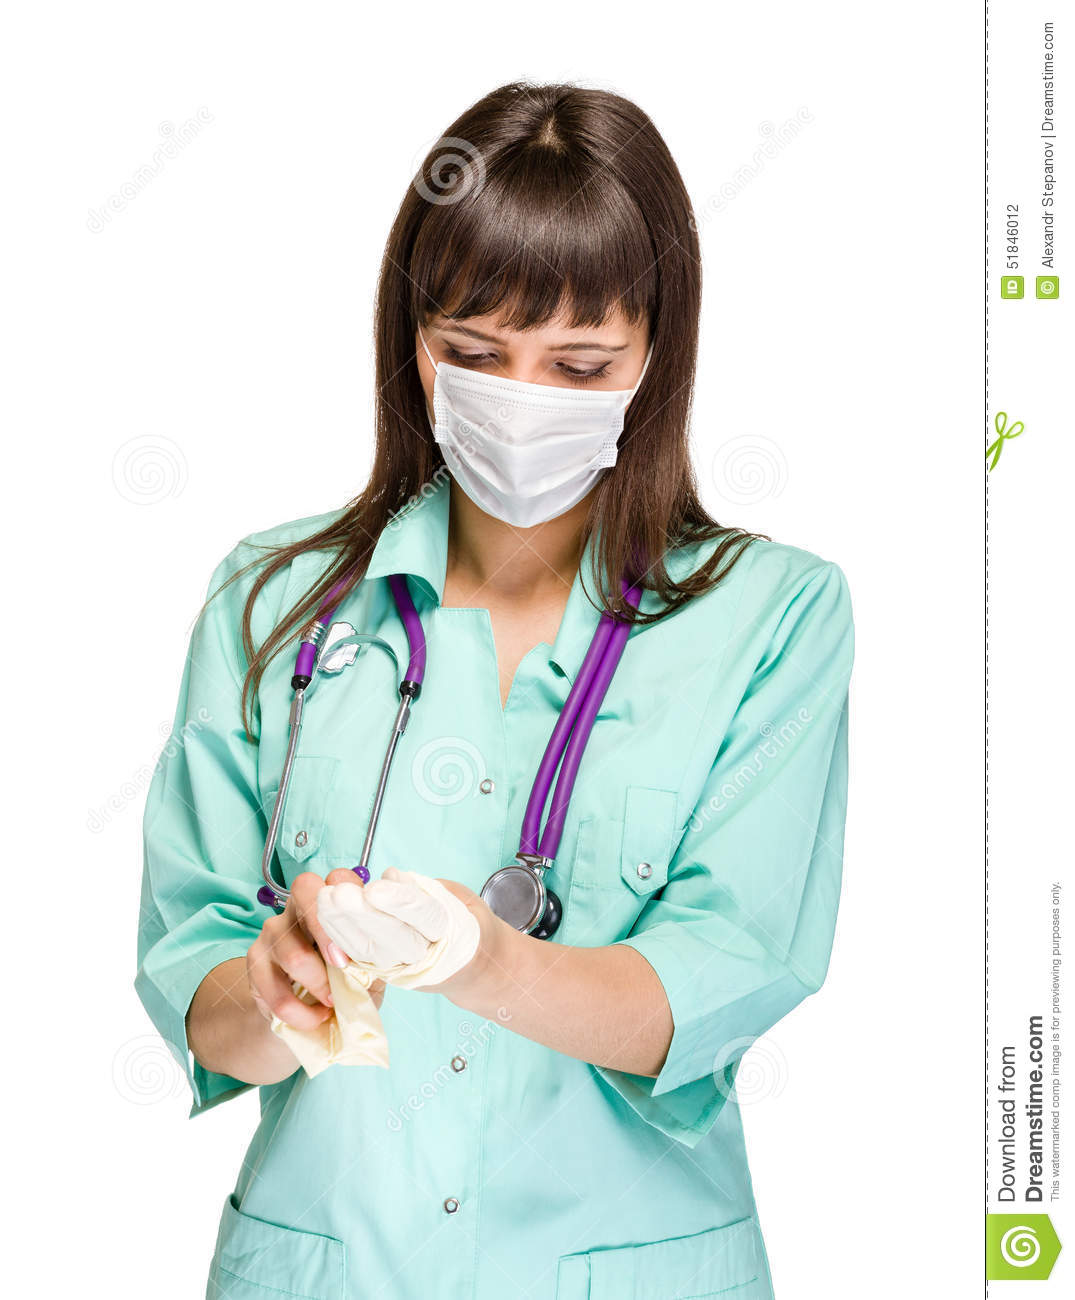mask: (419, 367, 635, 533)
